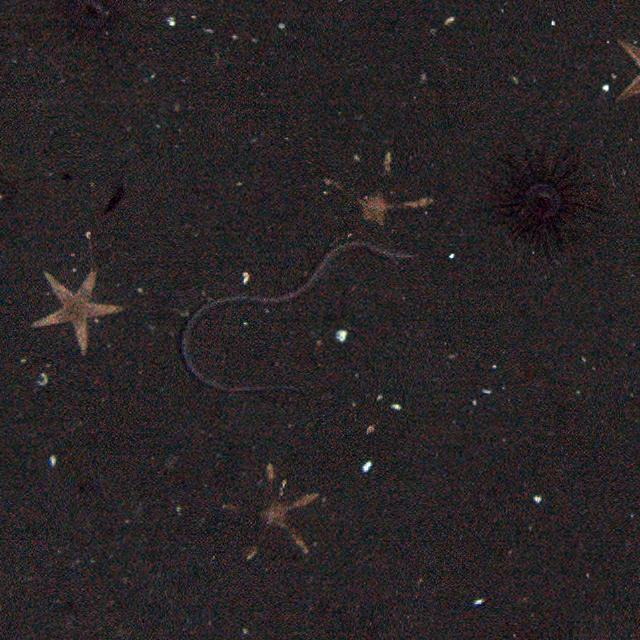eel: (160, 242, 416, 395)
